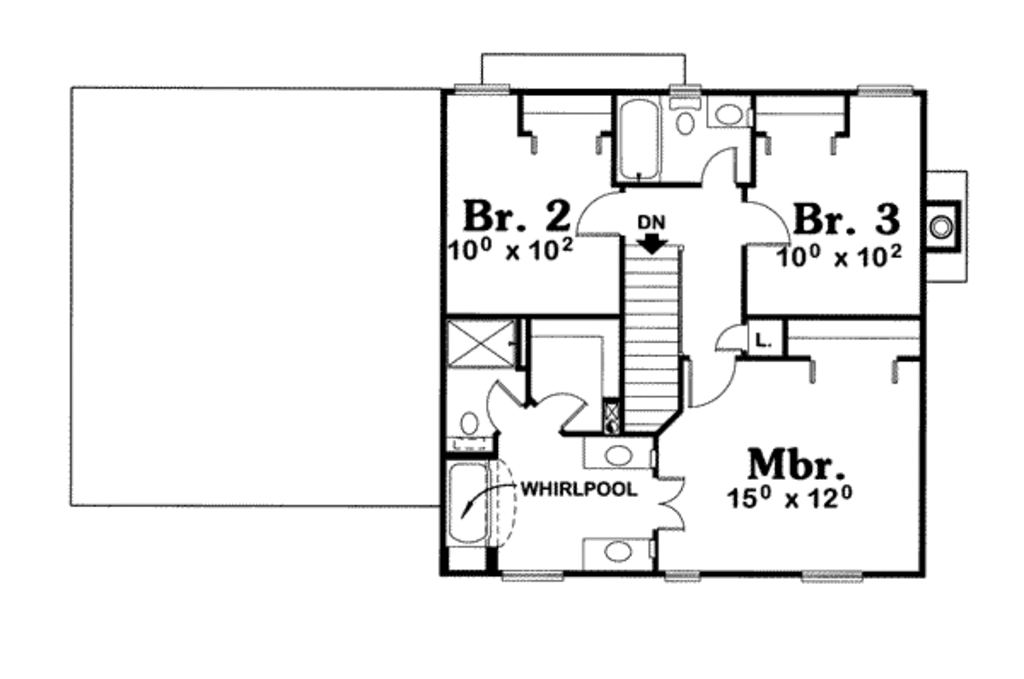door: (682, 353, 737, 411), (739, 199, 795, 255), (572, 189, 623, 247), (531, 386, 589, 430), (483, 375, 523, 436), (698, 142, 745, 192), (655, 471, 687, 533), (712, 321, 750, 355)
large_sink: (668, 91, 709, 136)
small_sink: (579, 436, 661, 476), (578, 533, 653, 575), (703, 92, 755, 135)
stairs: (617, 213, 685, 439)
tub: (612, 89, 664, 183), (446, 453, 493, 554)
window: (797, 567, 869, 589), (496, 568, 568, 589), (451, 80, 514, 102), (854, 80, 918, 100), (664, 563, 704, 590)
